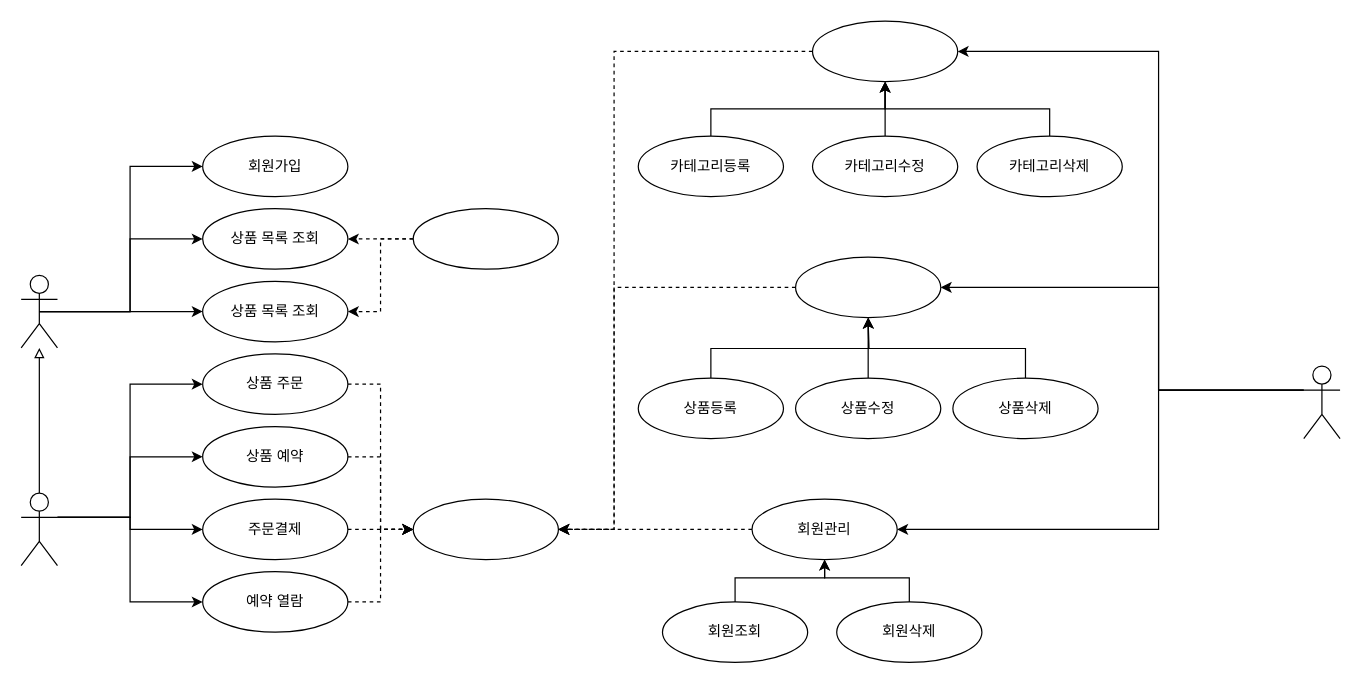
Some shapes in this 1362 by 684 pixel diagram are drawn without their labels. The centre of each missing label's shape, as x and y in pixels:
"고객" belongs at point 38,311.
"관리자" belongs at point 1321,402.
"사용자 인증" belongs at point 485,529.
"상품관리" belongs at point 867,287.
"상품상세조회" belongs at point 485,238.
"카테고리관리" belongs at point 884,51.
"회원" belongs at point 38,529.
